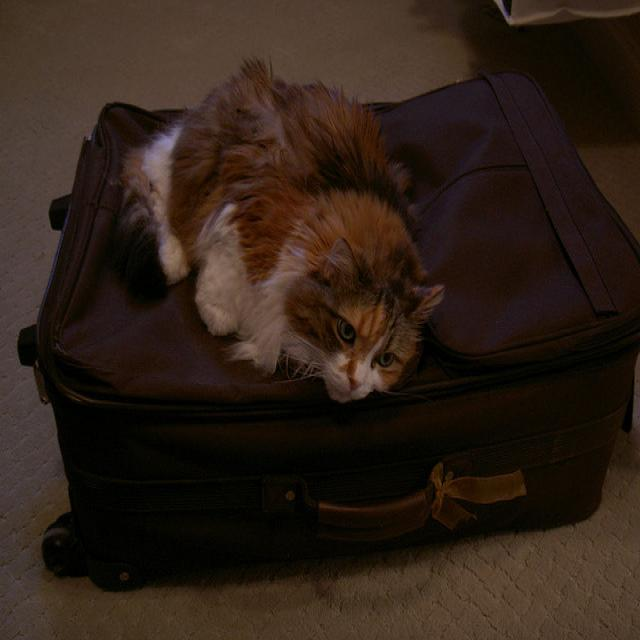Cat: (112, 37, 446, 436)
